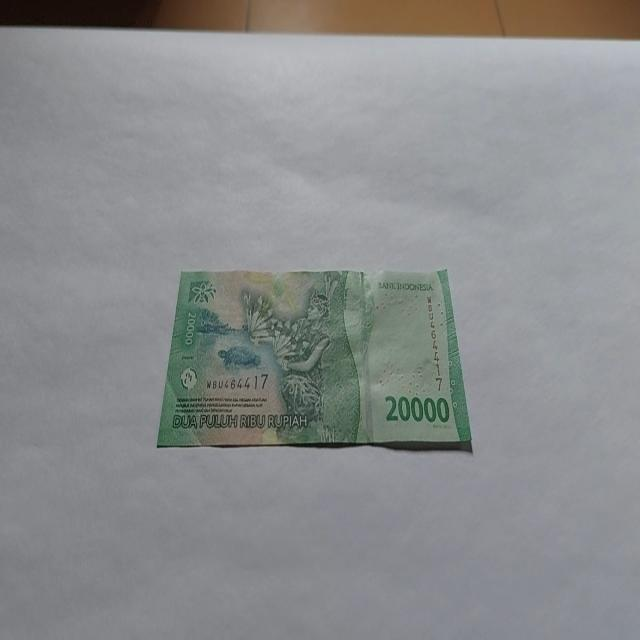dua puluh ribu rupiah: (155, 264, 473, 452)
